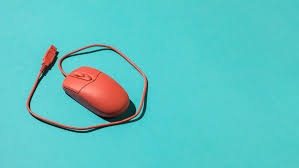mouse: (59, 65, 133, 123)
